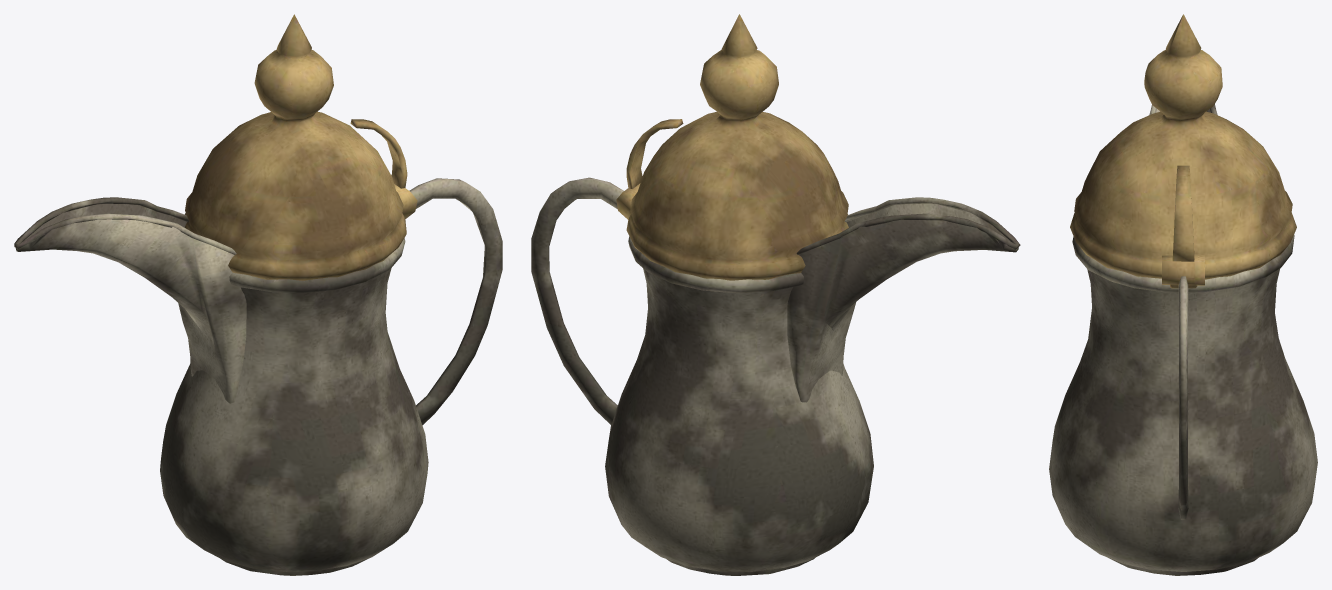
Rendered from dallah.glb.
The picture shows the model from 3 angles, left to right: view 1: azimuth 30°, elevation 25°; view 2: azimuth 150°, elevation 25°; view 3: azimuth 270°, elevation 25°; orthographic projection.
Parts seen in each view (by area): view 1: DW_Dallah_Game; view 2: DW_Dallah_Game; view 3: DW_Dallah_Game.
Part boxes in pixels (x1,y1,x2,y2): DW_Dallah_Game: (14, 14, 502, 575); DW_Dallah_Game: (531, 14, 1020, 575); DW_Dallah_Game: (1049, 14, 1317, 575).
Bounding box in the file's own units: 0.3133 × 0.3243 × 0.15.
1 material, 1 textured.
